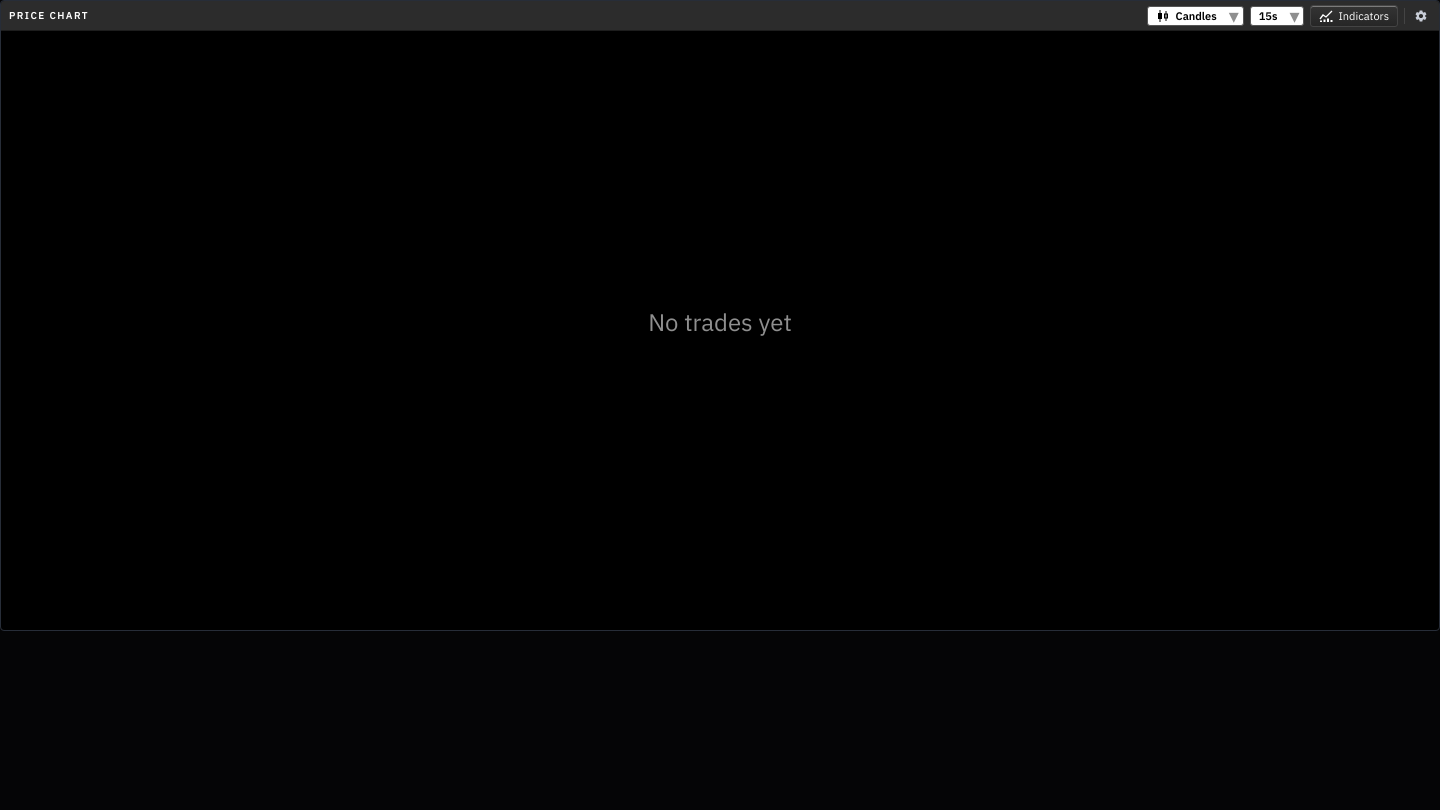
Scenario: Chart type and Bar size rows (P17-9) › opens on Display > Chart, on Candles with the Bar size row at 15s
Click the button with test id "pc-settings-gear". click: (1421, 16)
box: top-left (1411, 6), bottom-right (1431, 26)
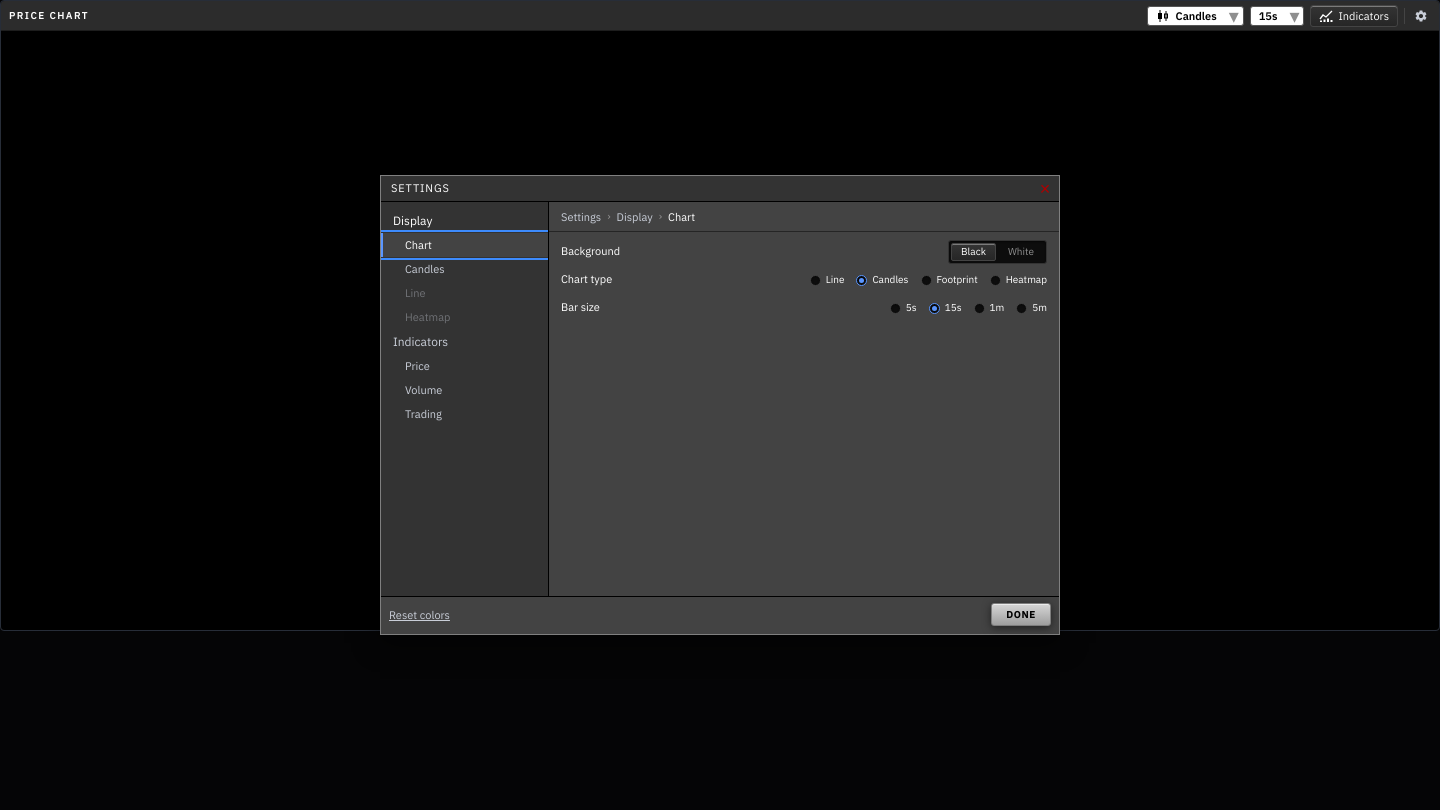
expect the radio button with test id "pc-type-candles" is checked: met, box top-left (856, 274), bottom-right (867, 286)
expect the radio button with test id "pc-size-15s" is checked: met, box top-left (929, 302), bottom-right (940, 314)
